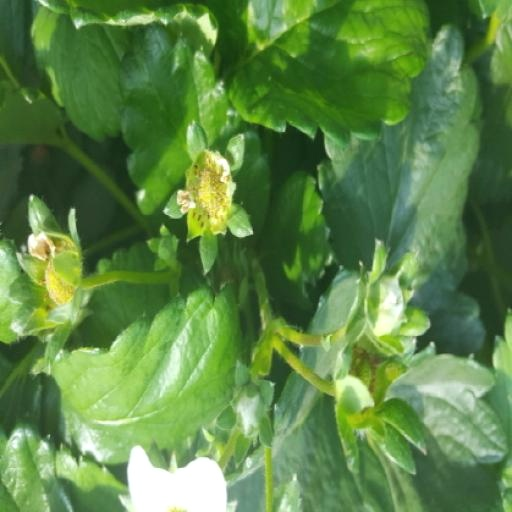Blossom Blight: (276, 283, 335, 361)
